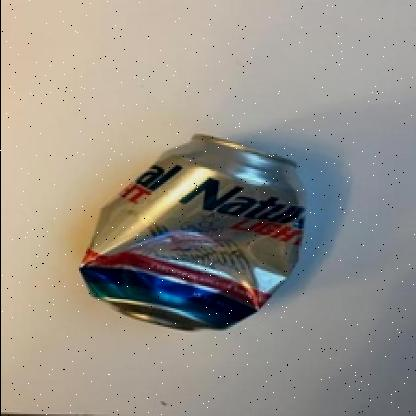Can: (70, 107, 327, 361)
